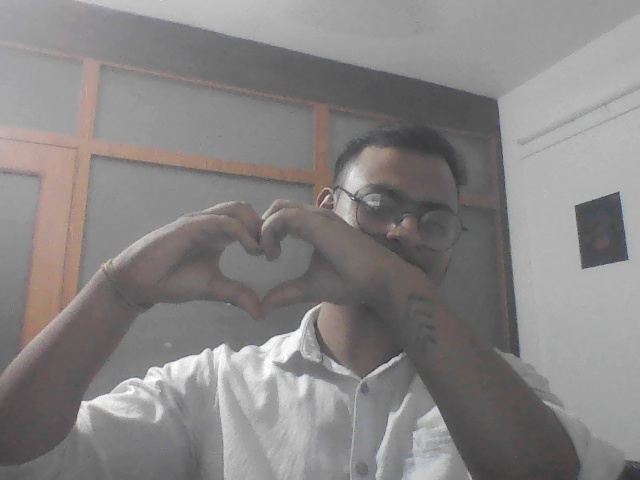Heart: (152, 196, 365, 331)
